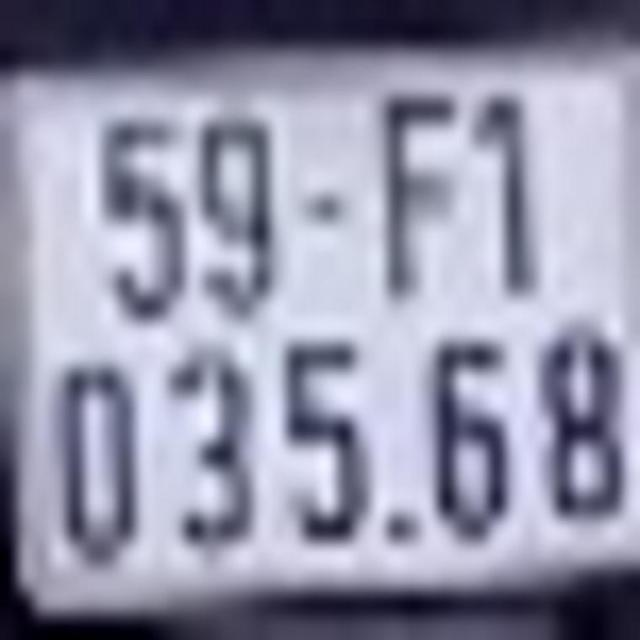0: (59, 363, 135, 568)
1: (469, 88, 532, 301)
3: (165, 347, 256, 552)
5: (96, 114, 190, 321), (280, 336, 370, 543)
6: (433, 328, 512, 539)
8: (538, 315, 625, 528)
9: (196, 114, 280, 320)
F: (376, 88, 460, 294)
